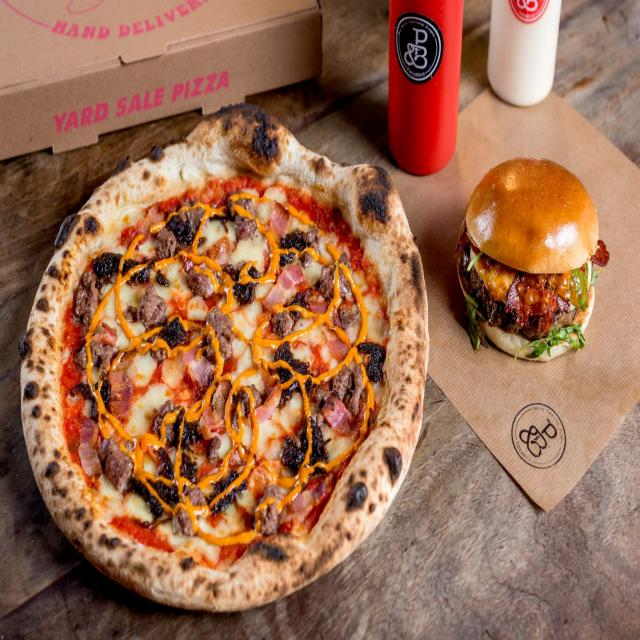burger: (456, 157, 600, 360)
pizza: (19, 101, 429, 614)
